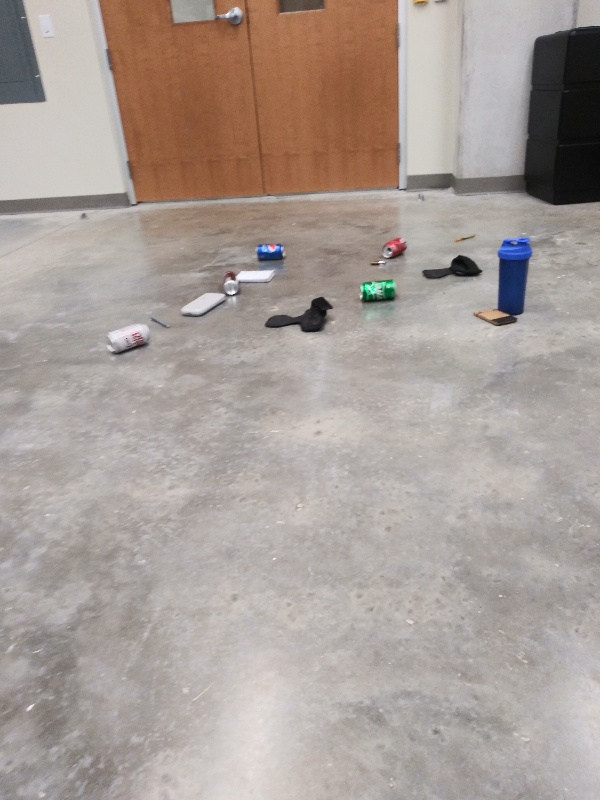can: (103, 321, 151, 355), (355, 278, 399, 303), (251, 241, 287, 264), (379, 235, 408, 261), (221, 268, 245, 297)
